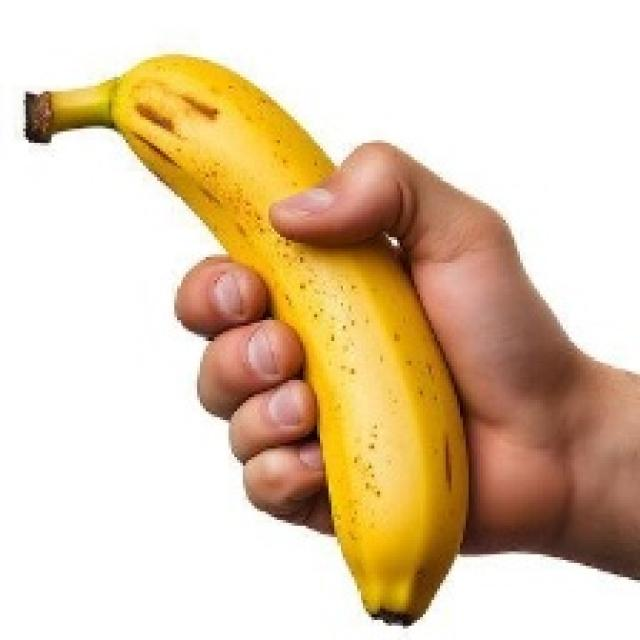Banana: (20, 51, 469, 626)
